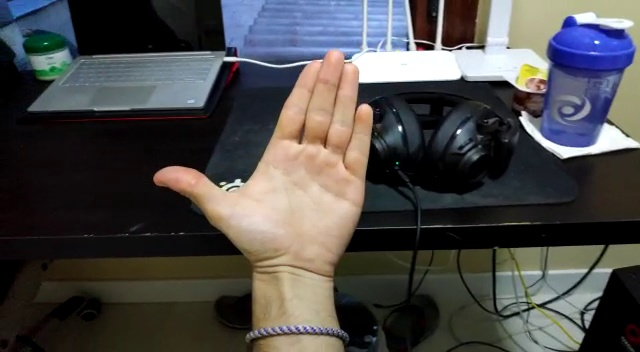Palm: (151, 48, 377, 274)
